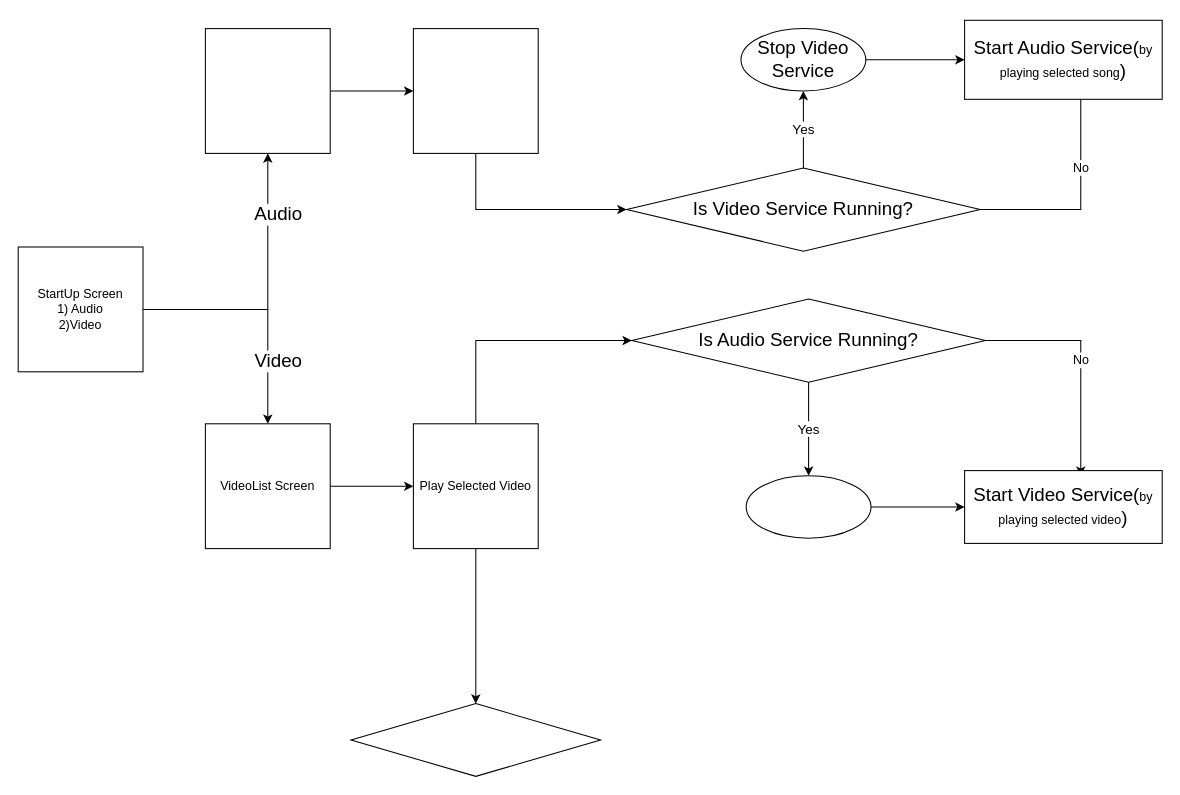
The diagram is 1180 pixels wide and 795 high, and some of its shapes have lost their labels. The centre of each missing label's shape, as x and y in pixels:
AudioList Screen 1) Albums 2) Artists 3) Playlists 4) Favourites: pixel 267 90
Is User Active in the screen?: pixel 475 739
Play Selected Song Screen: pixel 475 90
Stop Audio Service: pixel 808 506
